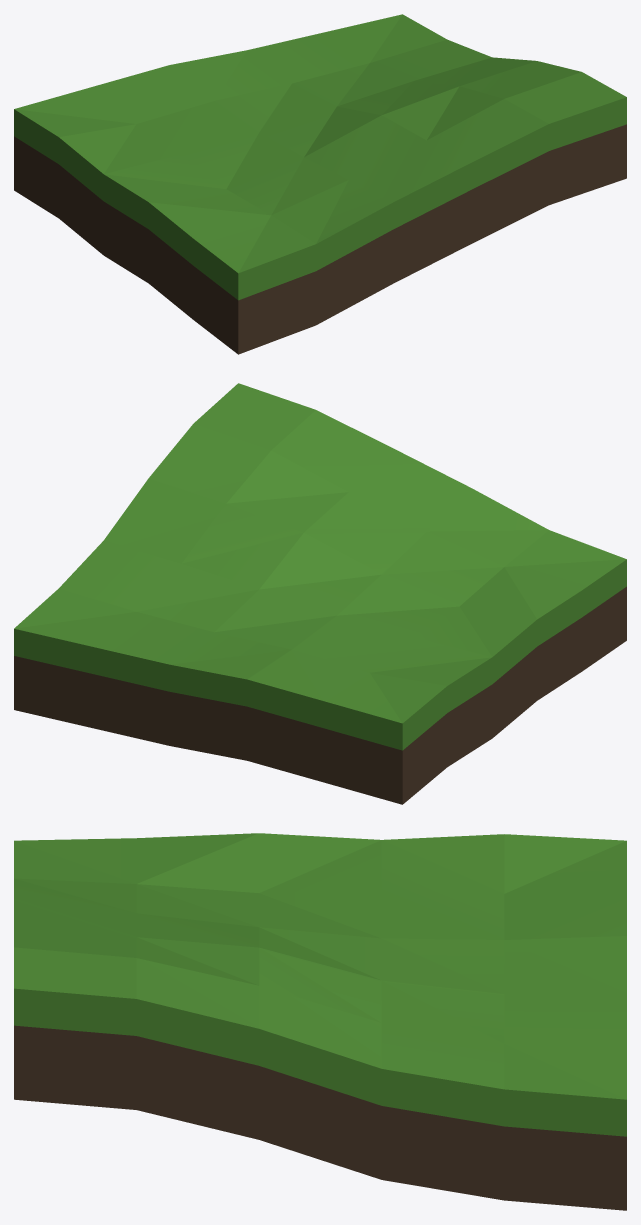
Rendered from terrains_terrain-world-hill2.fbx.
The picture shows the model from 3 angles, top to bottom: view 1: azimuth 30°, elevation 25°; view 2: azimuth 150°, elevation 25°; view 3: azimuth 270°, elevation 25°; orthographic projection. The views are drawn at different scales.
Parts seen in each view (by area): view 1: terrains_terrain_world_hill2; view 2: terrains_terrain_world_hill2; view 3: terrains_terrain_world_hill2.
Part boxes in pixels (box(x1,y1,x2,y2)): terrains_terrain_world_hill2: box(14, 14, 626, 354); terrains_terrain_world_hill2: box(14, 383, 626, 804); terrains_terrain_world_hill2: box(14, 833, 626, 1210).
Bounding box in the file's own units: 200 × 80 × 200.
